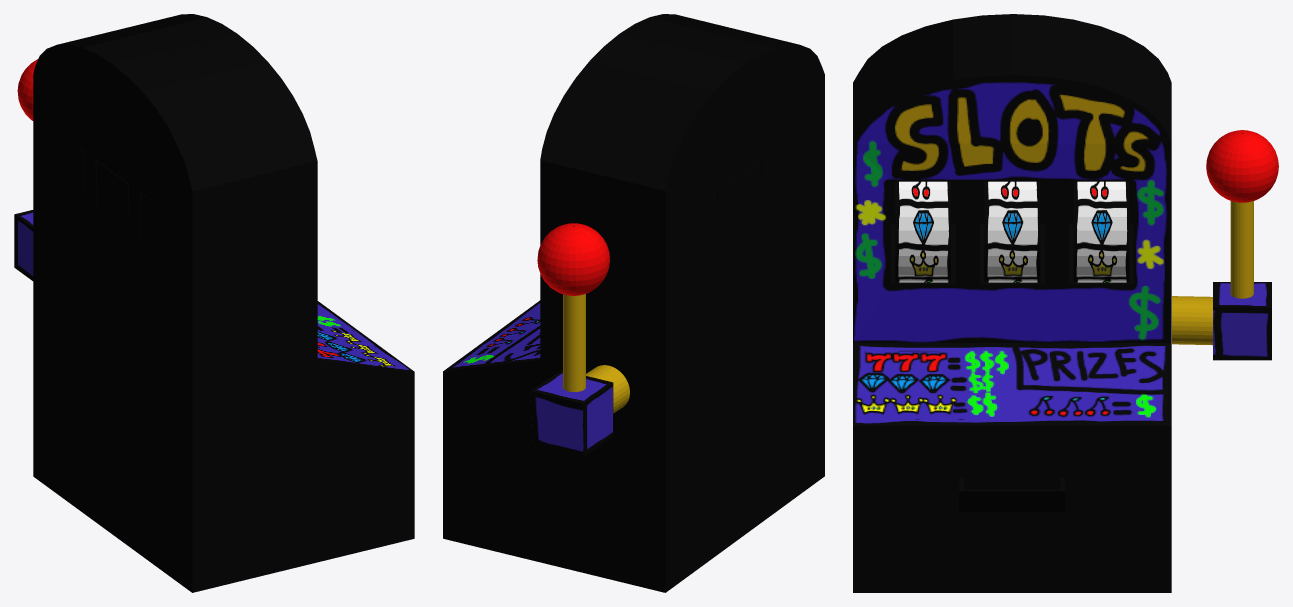
Rendered from slotmachine.glb.
The picture shows the model from 3 angles, left to right: view 1: azimuth 30°, elevation 25°; view 2: azimuth 150°, elevation 25°; view 3: azimuth 270°, elevation 25°; orthographic projection.
Parts seen in each view (by area): view 1: SlotMachine, Handle; view 2: SlotMachine, Handle; view 3: SlotMachine, Handle, Wheel2, Wheel3, Wheel1.
Boxes of the visible parts, x1,y1,x2,y2 form: SlotMachine: [33, 14, 414, 592]; Handle: [14, 59, 37, 280]; SlotMachine: [443, 14, 824, 592]; Handle: [530, 223, 629, 457]; SlotMachine: [853, 14, 1171, 592]; Handle: [1172, 130, 1278, 360]; Wheel2: [984, 181, 1040, 282]; Wheel3: [1073, 181, 1129, 282]; Wheel1: [895, 181, 950, 282].
Bounding box in the file's own units: 8.04 × 14.26 × 11.7.
5 materials, 5 textured.
